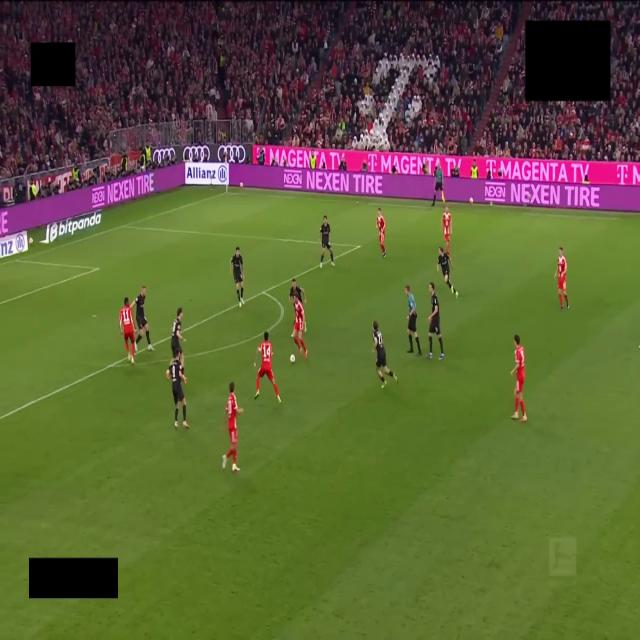ball: (290, 354, 295, 364)
player: (254, 332, 280, 402), (222, 382, 242, 471), (166, 350, 188, 428), (373, 321, 397, 388), (131, 286, 153, 351), (511, 335, 526, 422), (428, 282, 444, 359), (119, 297, 135, 364), (437, 248, 457, 297), (555, 247, 569, 311), (293, 298, 307, 358), (230, 247, 244, 306), (171, 308, 185, 366), (320, 216, 334, 268), (377, 208, 386, 257), (289, 279, 306, 304), (442, 207, 451, 254)
referee: (406, 286, 421, 355)
